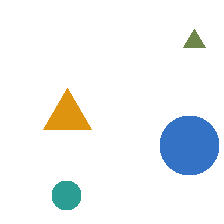circle: (160, 116, 218, 174), (52, 181, 80, 209)
triangle: (43, 88, 91, 129), (183, 29, 205, 47)
